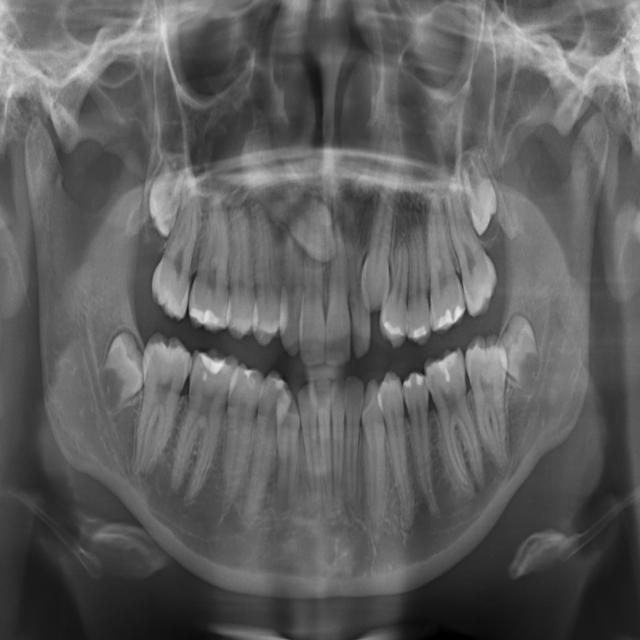CompositeResinRestoration: (190, 296, 225, 336), (437, 304, 465, 335), (200, 345, 228, 375), (440, 349, 458, 382), (412, 324, 432, 348), (401, 365, 411, 397), (416, 366, 425, 392)
ImpactedTooth: (360, 166, 404, 310), (268, 192, 342, 266)
